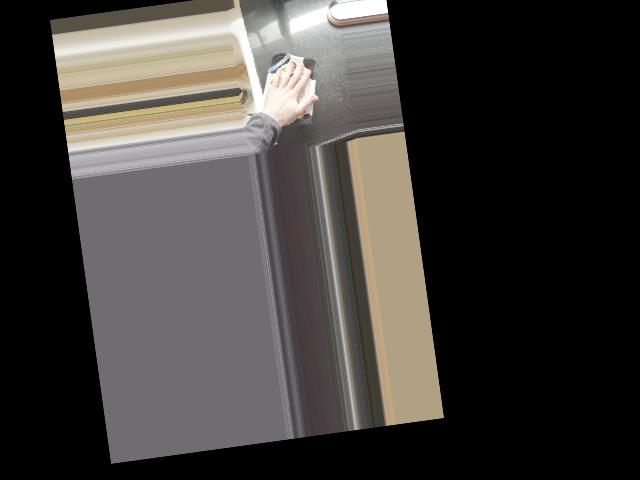cheese: (250, 46, 326, 131)
